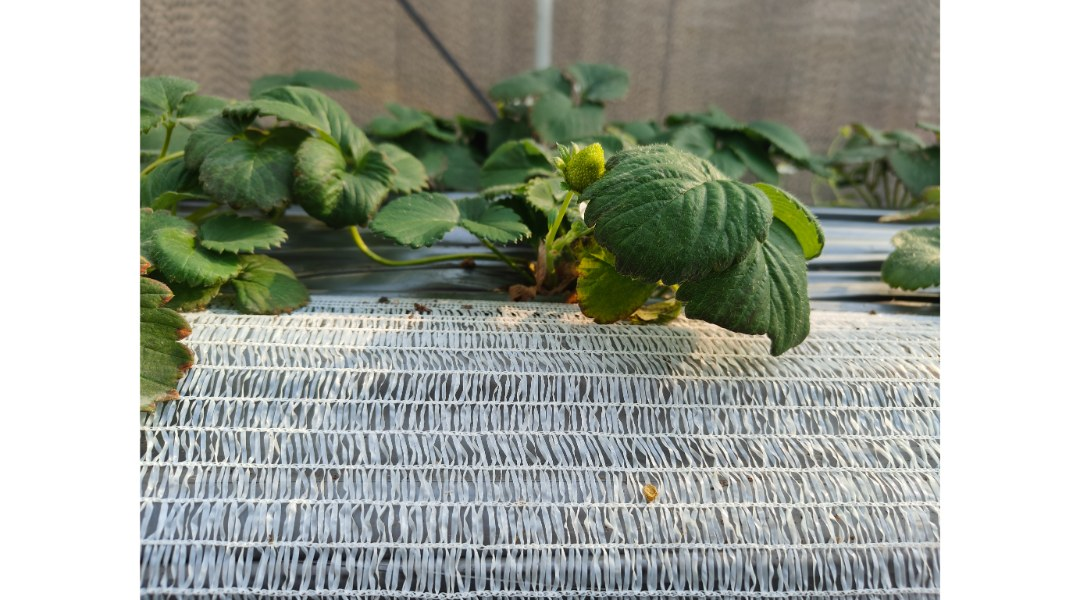berry: (540, 136, 608, 205)
